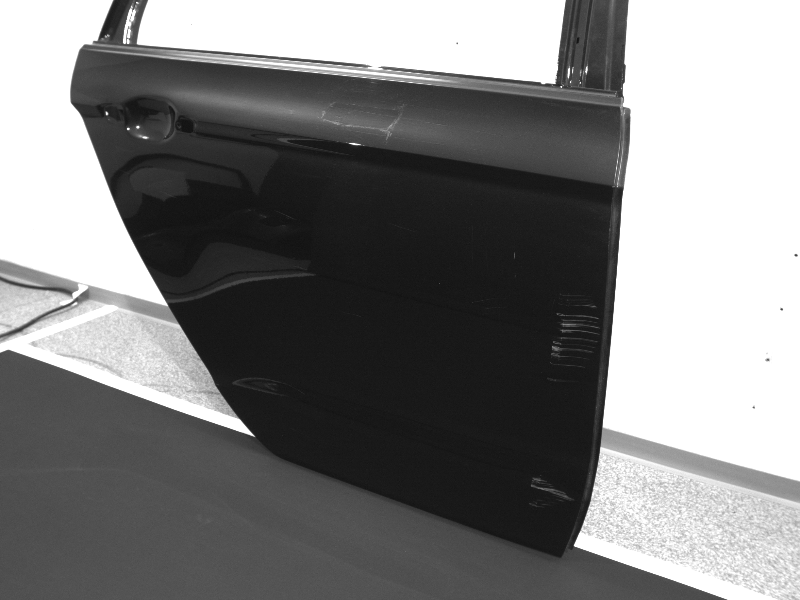scratch: (546, 292, 601, 383), (529, 477, 575, 511), (472, 296, 506, 310), (273, 208, 297, 221), (391, 224, 416, 233), (470, 222, 475, 262), (159, 191, 177, 200), (345, 311, 362, 319), (513, 250, 517, 261)
